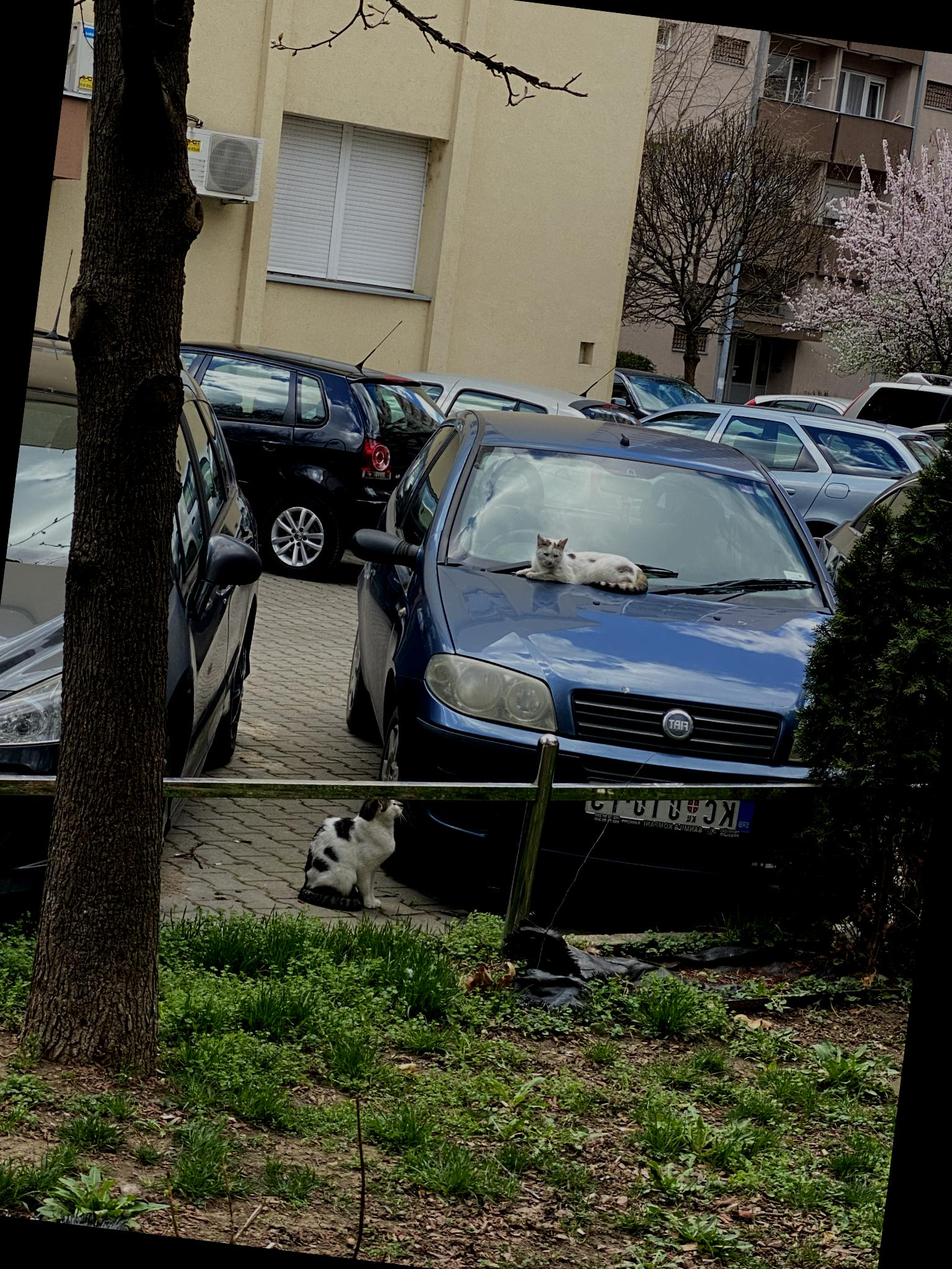macka: (296, 788, 404, 914), (513, 530, 654, 594)
